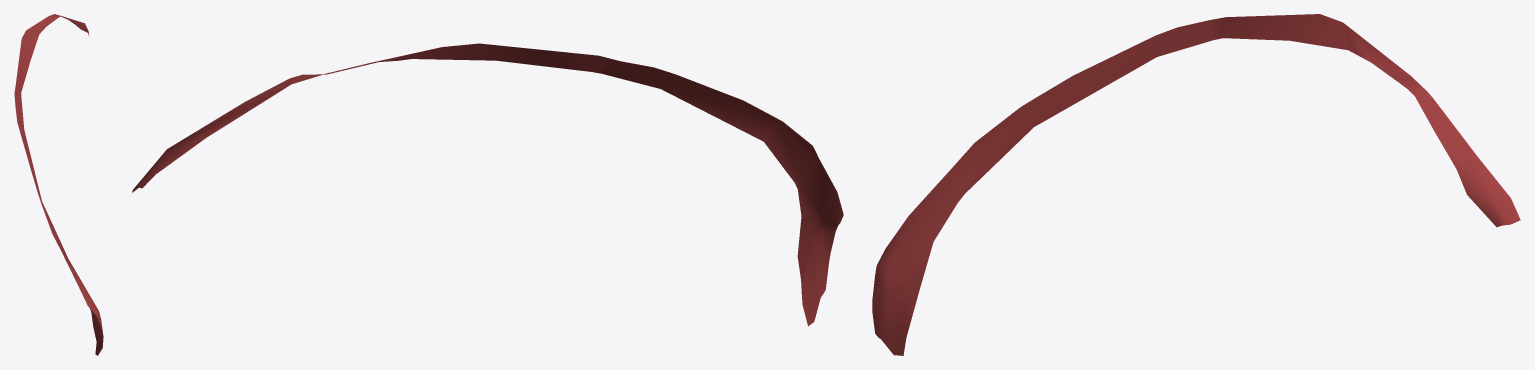
The model's file is transversus-abdominis-muscle-or.glb.
3 views of the same model, side by side, from view 1: azimuth 30°, elevation 25°; view 2: azimuth 150°, elevation 25°; view 3: azimuth 270°, elevation 25° (orthographic). The views are drawn at different scales.
Visible parts, largest first — view 1: Transversus abdominis muscle.or; view 2: Transversus abdominis muscle.or; view 3: Transversus abdominis muscle.or.
Part boxes in pixels (x1=…): Transversus abdominis muscle.or: x1=14, y1=14, x2=103, y2=355; Transversus abdominis muscle.or: x1=132, y1=43, x2=843, y2=326; Transversus abdominis muscle.or: x1=872, y1=14, x2=1520, y2=355.
Size of the model in its own units: 0.0664 by 0.0739 by 0.1139.
